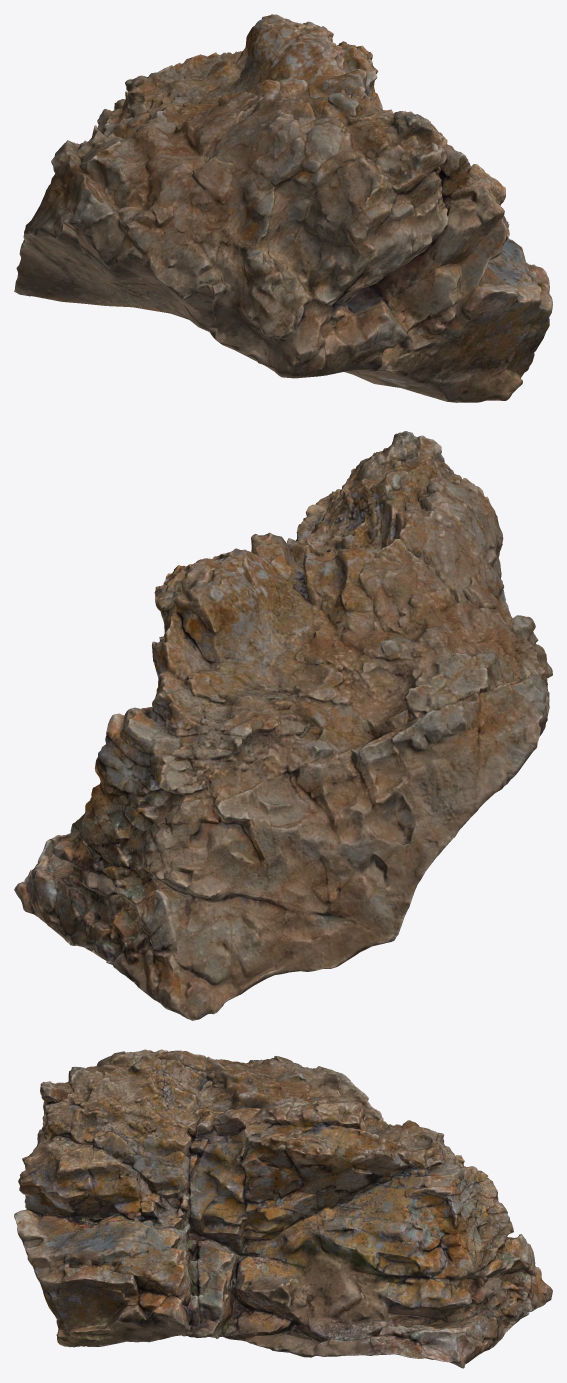
The model's file is boulder_01.glb.
3 views of the same model, one above another, from view 1: azimuth 30°, elevation 25°; view 2: azimuth 150°, elevation 25°; view 3: azimuth 270°, elevation 25° (orthographic). The views are drawn at different scales.
Parts seen in each view (by area): view 1: boulder_01; view 2: boulder_01; view 3: boulder_01.
Part boxes in pixels (x1,y1,x2,y2): boulder_01: (14, 14, 552, 402); boulder_01: (14, 431, 552, 1020); boulder_01: (14, 1049, 552, 1368).
Bounding box in the file's own units: 1.27 × 1 × 1.83.
Materials: 1 (1 with a texture image).
